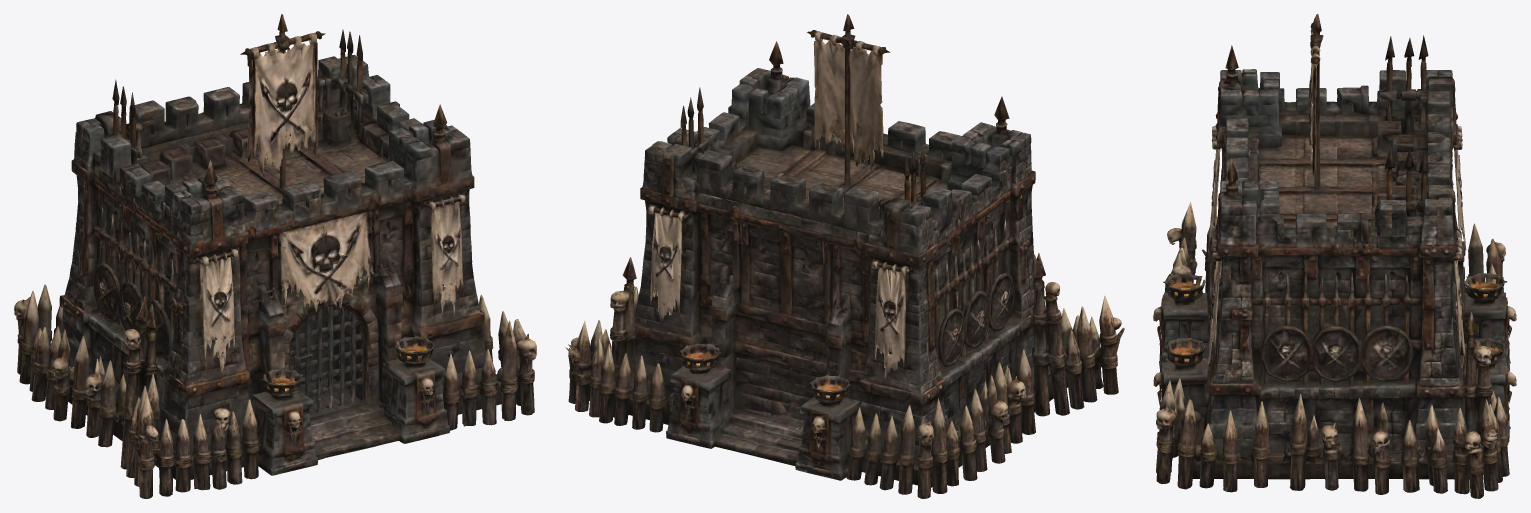
File: warband_base-iron-keep.glb
The picture shows the model from 3 angles, left to right: view 1: azimuth 30°, elevation 25°; view 2: azimuth 150°, elevation 25°; view 3: azimuth 270°, elevation 25°; orthographic projection. The views are drawn at different scales.
Parts seen in each view (by area): view 1: tripo_node_b996fa92-4fb3-420f-9810-e826655101ad; view 2: tripo_node_b996fa92-4fb3-420f-9810-e826655101ad; view 3: tripo_node_b996fa92-4fb3-420f-9810-e826655101ad.
Boxes of the visible parts, x1,y1,x2,y2 form: tripo_node_b996fa92-4fb3-420f-9810-e826655101ad: [14, 14, 536, 498]; tripo_node_b996fa92-4fb3-420f-9810-e826655101ad: [565, 14, 1124, 498]; tripo_node_b996fa92-4fb3-420f-9810-e826655101ad: [1153, 14, 1516, 498].
Size of the model in its own units: 0.9803 by 0.8653 by 0.7388.
Materials: 1 (1 with a texture image).
